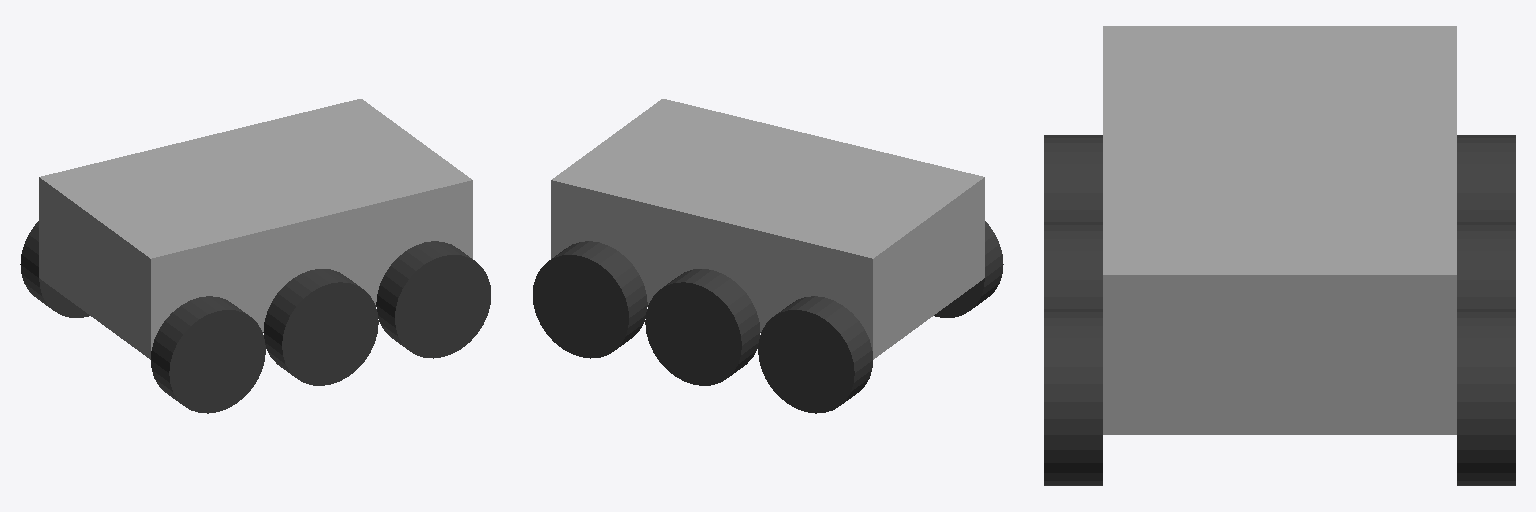
URDF robot description (simple_rover):
<?xml version="1.0" encoding="UTF-8"?>
<!-- Simple 6-wheeled Mars rover for URDF→USD pipeline validation.
     Box chassis + 6 cylindrical wheels. No rocker-bogie (Week 14).
     Mass: base 50kg, each wheel 2kg. Total 62kg. -->
<robot name="simple_rover">

  <!-- Base link: box chassis -->
  <link name="base_link">
    <visual>
      <geometry>
        <box size="1.0 0.6 0.3"/>
      </geometry>
      <material name="chassis_color">
        <color rgba="0.7 0.7 0.7 1.0"/>
      </material>
    </visual>
    <collision>
      <geometry>
        <box size="1.0 0.6 0.3"/>
      </geometry>
    </collision>
    <inertial>
      <mass value="50.0"/>
      <inertia ixx="1.95" ixy="0" ixz="0" iyy="2.33" iyz="0" izz="3.58"/>
    </inertial>
  </link>

  <!-- Wheel macro: 6 wheels (front/mid/rear, left/right) -->
  <!-- Front Left -->
  <link name="wheel_fl">
    <visual>
      <geometry><cylinder radius="0.15" length="0.1"/></geometry>
      <material name="wheel_color"><color rgba="0.3 0.3 0.3 1.0"/></material>
    </visual>
    <collision>
      <geometry><cylinder radius="0.15" length="0.1"/></geometry>
    </collision>
    <inertial>
      <mass value="2.0"/>
      <inertia ixx="0.0056" ixy="0" ixz="0" iyy="0.0056" iyz="0" izz="0.0045"/>
    </inertial>
  </link>
  <joint name="joint_fl" type="continuous">
    <parent link="base_link"/>
    <child link="wheel_fl"/>
    <origin xyz="0.35 0.35 -0.15" rpy="1.5708 0 0"/>
    <axis xyz="0 0 1"/>
    <dynamics damping="0.5" friction="1.0"/>
  </joint>

  <!-- Front Right -->
  <link name="wheel_fr">
    <visual>
      <geometry><cylinder radius="0.15" length="0.1"/></geometry>
      <material name="wheel_color"><color rgba="0.3 0.3 0.3 1.0"/></material>
    </visual>
    <collision>
      <geometry><cylinder radius="0.15" length="0.1"/></geometry>
    </collision>
    <inertial>
      <mass value="2.0"/>
      <inertia ixx="0.0056" ixy="0" ixz="0" iyy="0.0056" iyz="0" izz="0.0045"/>
    </inertial>
  </link>
  <joint name="joint_fr" type="continuous">
    <parent link="base_link"/>
    <child link="wheel_fr"/>
    <origin xyz="0.35 -0.35 -0.15" rpy="1.5708 0 0"/>
    <axis xyz="0 0 1"/>
    <dynamics damping="0.5" friction="1.0"/>
  </joint>

  <!-- Mid Left -->
  <link name="wheel_ml">
    <visual>
      <geometry><cylinder radius="0.15" length="0.1"/></geometry>
      <material name="wheel_color"><color rgba="0.3 0.3 0.3 1.0"/></material>
    </visual>
    <collision>
      <geometry><cylinder radius="0.15" length="0.1"/></geometry>
    </collision>
    <inertial>
      <mass value="2.0"/>
      <inertia ixx="0.0056" ixy="0" ixz="0" iyy="0.0056" iyz="0" izz="0.0045"/>
    </inertial>
  </link>
  <joint name="joint_ml" type="continuous">
    <parent link="base_link"/>
    <child link="wheel_ml"/>
    <origin xyz="0.0 0.35 -0.15" rpy="1.5708 0 0"/>
    <axis xyz="0 0 1"/>
    <dynamics damping="0.5" friction="1.0"/>
  </joint>

  <!-- Mid Right -->
  <link name="wheel_mr">
    <visual>
      <geometry><cylinder radius="0.15" length="0.1"/></geometry>
      <material name="wheel_color"><color rgba="0.3 0.3 0.3 1.0"/></material>
    </visual>
    <collision>
      <geometry><cylinder radius="0.15" length="0.1"/></geometry>
    </collision>
    <inertial>
      <mass value="2.0"/>
      <inertia ixx="0.0056" ixy="0" ixz="0" iyy="0.0056" iyz="0" izz="0.0045"/>
    </inertial>
  </link>
  <joint name="joint_mr" type="continuous">
    <parent link="base_link"/>
    <child link="wheel_mr"/>
    <origin xyz="0.0 -0.35 -0.15" rpy="1.5708 0 0"/>
    <axis xyz="0 0 1"/>
    <dynamics damping="0.5" friction="1.0"/>
  </joint>

  <!-- Rear Left -->
  <link name="wheel_rl">
    <visual>
      <geometry><cylinder radius="0.15" length="0.1"/></geometry>
      <material name="wheel_color"><color rgba="0.3 0.3 0.3 1.0"/></material>
    </visual>
    <collision>
      <geometry><cylinder radius="0.15" length="0.1"/></geometry>
    </collision>
    <inertial>
      <mass value="2.0"/>
      <inertia ixx="0.0056" ixy="0" ixz="0" iyy="0.0056" iyz="0" izz="0.0045"/>
    </inertial>
  </link>
  <joint name="joint_rl" type="continuous">
    <parent link="base_link"/>
    <child link="wheel_rl"/>
    <origin xyz="-0.35 0.35 -0.15" rpy="1.5708 0 0"/>
    <axis xyz="0 0 1"/>
    <dynamics damping="0.5" friction="1.0"/>
  </joint>

  <!-- Rear Right -->
  <link name="wheel_rr">
    <visual>
      <geometry><cylinder radius="0.15" length="0.1"/></geometry>
      <material name="wheel_color"><color rgba="0.3 0.3 0.3 1.0"/></material>
    </visual>
    <collision>
      <geometry><cylinder radius="0.15" length="0.1"/></geometry>
    </collision>
    <inertial>
      <mass value="2.0"/>
      <inertia ixx="0.0056" ixy="0" ixz="0" iyy="0.0056" iyz="0" izz="0.0045"/>
    </inertial>
  </link>
  <joint name="joint_rr" type="continuous">
    <parent link="base_link"/>
    <child link="wheel_rr"/>
    <origin xyz="-0.35 -0.35 -0.15" rpy="1.5708 0 0"/>
    <axis xyz="0 0 1"/>
    <dynamics damping="0.5" friction="1.0"/>
  </joint>

</robot>

--- Facts derived from the render (not from the file) ---
Views: 3 orthographic renders of the robot side by side, from view 1: azimuth 30°, elevation 25°; view 2: azimuth 150°, elevation 25°; view 3: azimuth 270°, elevation 25°.
Robot: simple_rover — 7 links, 6 joints (6 continuous); root link base_link; default pose: all joints at 0.
Links seen in each view (by area): view 1: base_link, wheel_rr, wheel_mr, wheel_fr, wheel_rl; view 2: base_link, wheel_rl, wheel_ml, wheel_fl, wheel_rr; view 3: base_link, wheel_fl, wheel_fr, wheel_ml, wheel_mr, wheel_rl, wheel_rr.
Link boxes in pixels (x1,y1,x2,y2): base_link: [39, 99, 472, 359]; wheel_rr: [151, 296, 265, 413]; wheel_mr: [263, 269, 378, 385]; wheel_fr: [376, 241, 490, 358]; wheel_rl: [20, 221, 89, 317]; base_link: [551, 99, 984, 359]; wheel_rl: [758, 296, 872, 413]; wheel_ml: [645, 269, 760, 385]; wheel_fl: [533, 241, 647, 358]; wheel_rr: [934, 221, 1003, 317]; base_link: [1103, 26, 1456, 434]; wheel_fl: [1457, 309, 1515, 485]; wheel_fr: [1044, 309, 1102, 485]; wheel_ml: [1457, 222, 1515, 308]; wheel_mr: [1044, 222, 1102, 308]; wheel_rl: [1457, 135, 1515, 221]; wheel_rr: [1044, 135, 1102, 221].
Size in the robot's own frame: 1 by 0.8 by 0.45 metres.
Geometry: primitives only (box / cylinder / sphere), no mesh files.
